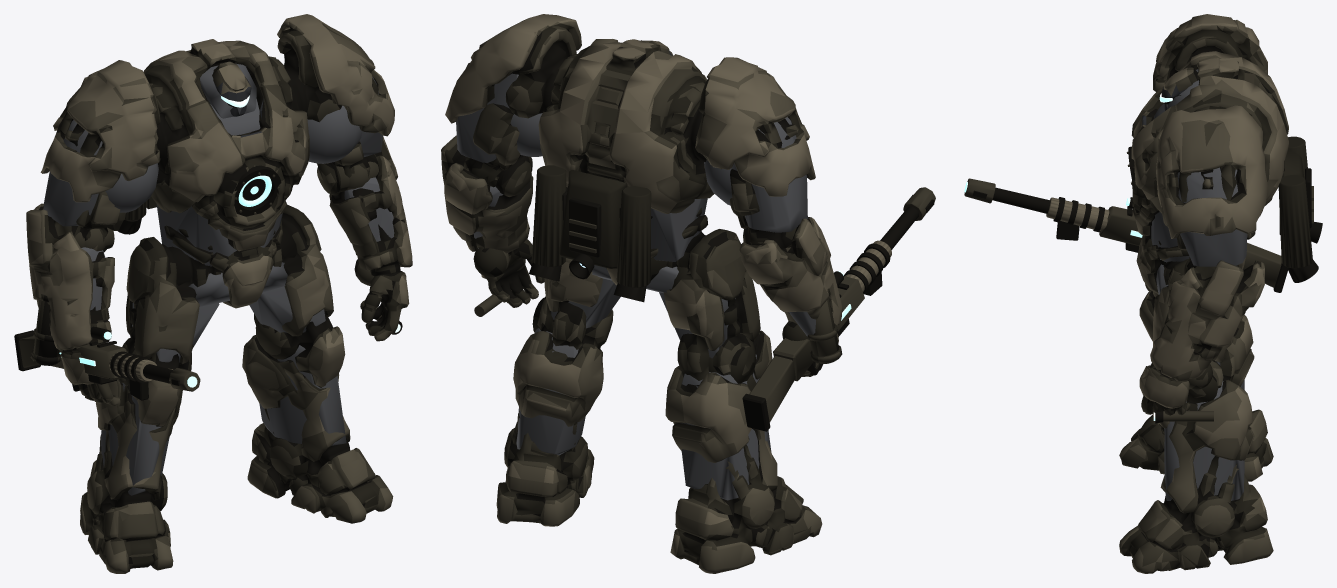
File: gundam.glb
3 renders of one model, left to right at view 1: azimuth 30°, elevation 25°; view 2: azimuth 150°, elevation 25°; view 3: azimuth 270°, elevation 25°, orthographic. The views are drawn at different scales.
Parts seen in each view (by area): view 1: torso, arm_R_upper, leg_L_lower, leg_R_lower, arm_R_lower, arm_L_upper, arm_L_lower, foot_L, leg_R_upper, leg_L_upper, foot_R, head (+5 smaller); view 2: torso, arm_R_upper, leg_R_lower, backpack, leg_L_lower, arm_L_upper, leg_R_upper, rifle, foot_R, arm_R_lower, head, arm_L_lower (+4 smaller); view 3: arm_L_upper, torso, leg_L_lower, arm_L_lower, foot_L, rifle, backpack, head, foot_R, hand_L, leg_R_lower, arm_R_upper (+3 smaller).
Boxes of the visible parts, left/top/right/bottom form: torso: left=105, top=20, right=362, bottom=297; arm_R_upper: left=26, top=60, right=159, bottom=252; leg_L_lower: left=242, top=335, right=365, bottom=470; leg_R_lower: left=87, top=350, right=191, bottom=520; arm_R_lower: left=27, top=227, right=114, bottom=365; arm_L_upper: left=277, top=14, right=394, bottom=183; arm_L_lower: left=317, top=158, right=412, bottom=292; foot_L: left=247, top=441, right=393, bottom=523; leg_R_upper: left=122, top=259, right=246, bottom=388; leg_L_upper: left=243, top=245, right=343, bottom=350; foot_R: left=80, top=476, right=173, bottom=573; head: left=160, top=39, right=272, bottom=138; torso: left=510, top=19, right=741, bottom=287; arm_R_upper: left=695, top=57, right=821, bottom=263; leg_R_lower: left=665, top=342, right=792, bottom=524; backpack: left=529, top=165, right=651, bottom=302; leg_L_lower: left=504, top=297, right=612, bottom=483; arm_L_upper: left=441, top=14, right=576, bottom=191; leg_R_upper: left=659, top=256, right=770, bottom=373; rifle: left=742, top=187, right=935, bottom=431; foot_R: left=670, top=488, right=822, bottom=573; arm_R_lower: left=740, top=230, right=842, bottom=363; head: left=560, top=39, right=673, bottom=137; arm_L_lower: left=442, top=156, right=533, bottom=254; arm_L_upper: left=1156, top=105, right=1267, bottom=295; torso: left=1126, top=23, right=1288, bottom=302; leg_L_lower: left=1139, top=375, right=1265, bottom=528; arm_L_lower: left=1146, top=257, right=1264, bottom=384; foot_L: left=1119, top=509, right=1273, bottom=573; rifle: left=964, top=178, right=1287, bottom=292; backpack: left=1278, top=136, right=1322, bottom=282; head: left=1142, top=55, right=1284, bottom=130; foot_R: left=1119, top=415, right=1273, bottom=481; hand_L: left=1141, top=364, right=1212, bottom=415; leg_R_lower: left=1139, top=307, right=1265, bottom=440; arm_R_upper: left=1153, top=14, right=1267, bottom=91.
Bounding box in the file's own units: 14.94 × 18 × 13.07.
